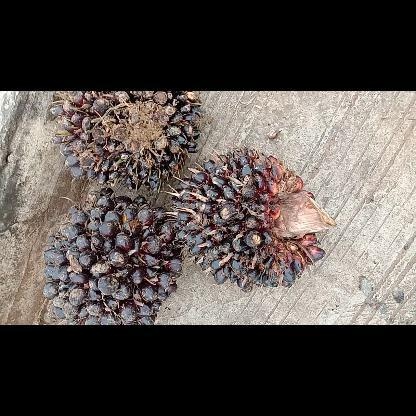TBS mentah: (170, 146, 338, 296), (40, 184, 186, 324), (44, 91, 207, 195)
